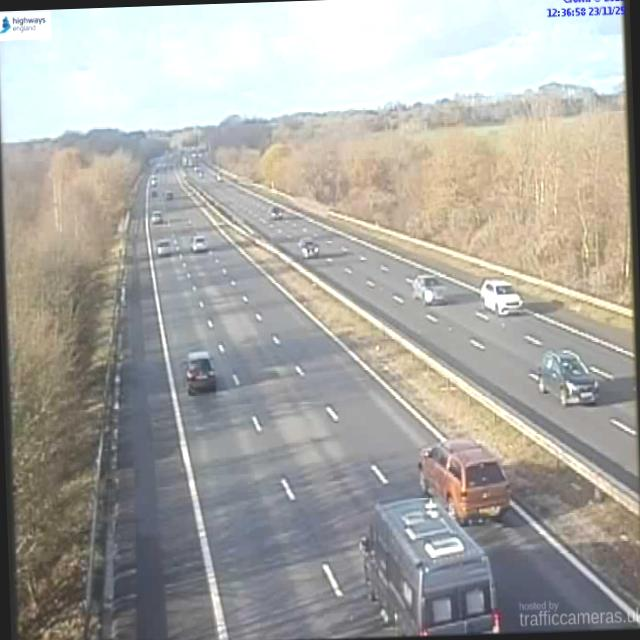foliage: (214, 94, 637, 304), (0, 143, 137, 640)
